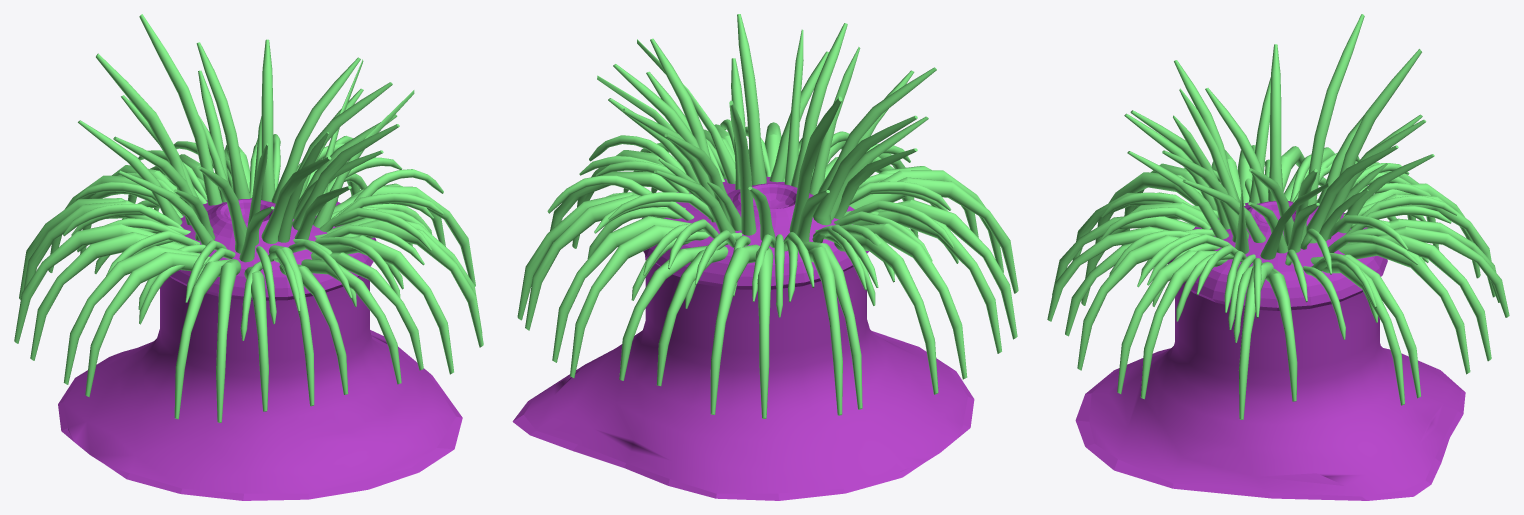
The model's file is anemona02.glb.
3 renders of one model, left to right at view 1: azimuth 30°, elevation 25°; view 2: azimuth 150°, elevation 25°; view 3: azimuth 270°, elevation 25°, orthographic. The views are drawn at different scales.
Visible parts, largest first — view 1: Cylinder001, Line084, Line077, Line025, Line007, Line002, Line071, Line088, Line018, Line072, Line016, Line030 (+44 smaller); view 2: Cylinder001, Line011, Line018, Line061, Line077, Line007, Line009, Line084, Line002, Line091, Line054, Line008 (+44 smaller); view 3: Cylinder001, Line011, Line089, Line071, Line061, Line079, Line016, Line004, Line012, Line051, Line010, Line025 (+46 smaller).
Part boxes in pixels (x1,y1,x2,y2): Cylinder001: (58, 198, 462, 500); Line084: (85, 252, 208, 397); Line077: (30, 232, 185, 360); Line025: (139, 14, 222, 205); Line007: (14, 224, 179, 343); Line002: (63, 245, 200, 384); Line071: (324, 235, 453, 374); Line088: (196, 42, 250, 199); Line018: (174, 259, 232, 419); Line072: (216, 259, 240, 422); Line016: (353, 220, 483, 347); Line030: (261, 39, 275, 201); Cylinder001: (512, 176, 974, 500); Line011: (552, 216, 691, 362); Line018: (849, 177, 1018, 293); Line061: (570, 225, 691, 378); Line077: (861, 223, 967, 379); Line007: (834, 233, 938, 394); Line009: (710, 244, 760, 414); Line084: (875, 199, 1017, 339); Line002: (853, 210, 1001, 353); Line091: (737, 14, 766, 185); Line054: (525, 194, 685, 330); Line008: (808, 246, 842, 415); Cylinder001: (1075, 201, 1465, 500); Line011: (1338, 243, 1470, 374); Line089: (1308, 14, 1364, 205); Line071: (1077, 235, 1179, 370); Line061: (1346, 234, 1491, 361); Line079: (1140, 250, 1227, 399); Line016: (1117, 250, 1197, 393); Line004: (1268, 44, 1283, 201); Line012: (1394, 226, 1509, 317); Line051: (1047, 226, 1169, 321); Line010: (1322, 257, 1404, 405); Line025: (1339, 49, 1421, 175).
Size of the model in its own units: 42.14 by 35.3 by 42.39.
